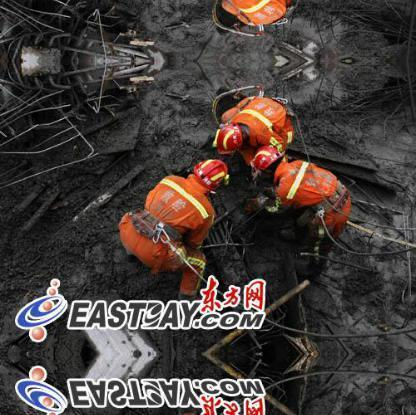helmet: (190, 149, 229, 192), (254, 144, 289, 183), (212, 120, 246, 156)
